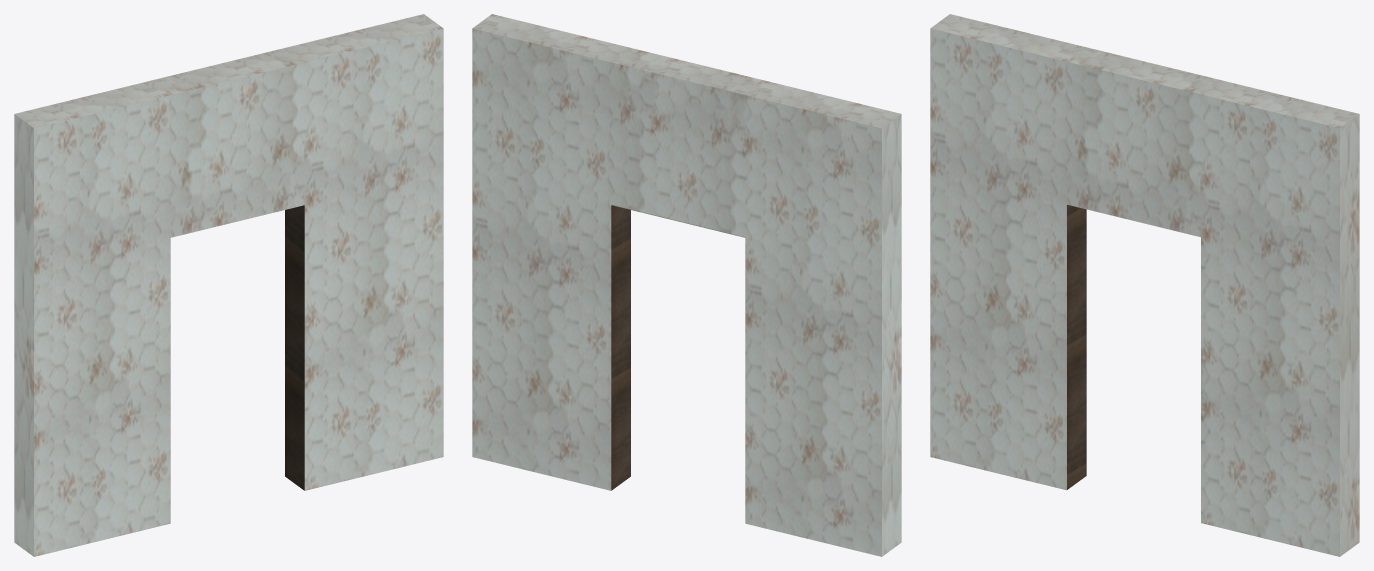
File: wall._3x3_dirka_kabinet.glb
3 views of the same model, side by side, from view 1: azimuth 30°, elevation 25°; view 2: azimuth 150°, elevation 25°; view 3: azimuth 330°, elevation 25° (orthographic).
Parts seen in each view (by area): view 1: Plane; view 2: Plane; view 3: Plane.
Part boxes in pixels (x1,y1,x2,y2): Plane: [14, 14, 443, 556]; Plane: [472, 14, 901, 556]; Plane: [930, 14, 1359, 556].
Size of the model in its own units: 3 by 3 by 0.25.
2 materials, 2 textured.
